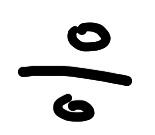div: (15, 21, 130, 124)
